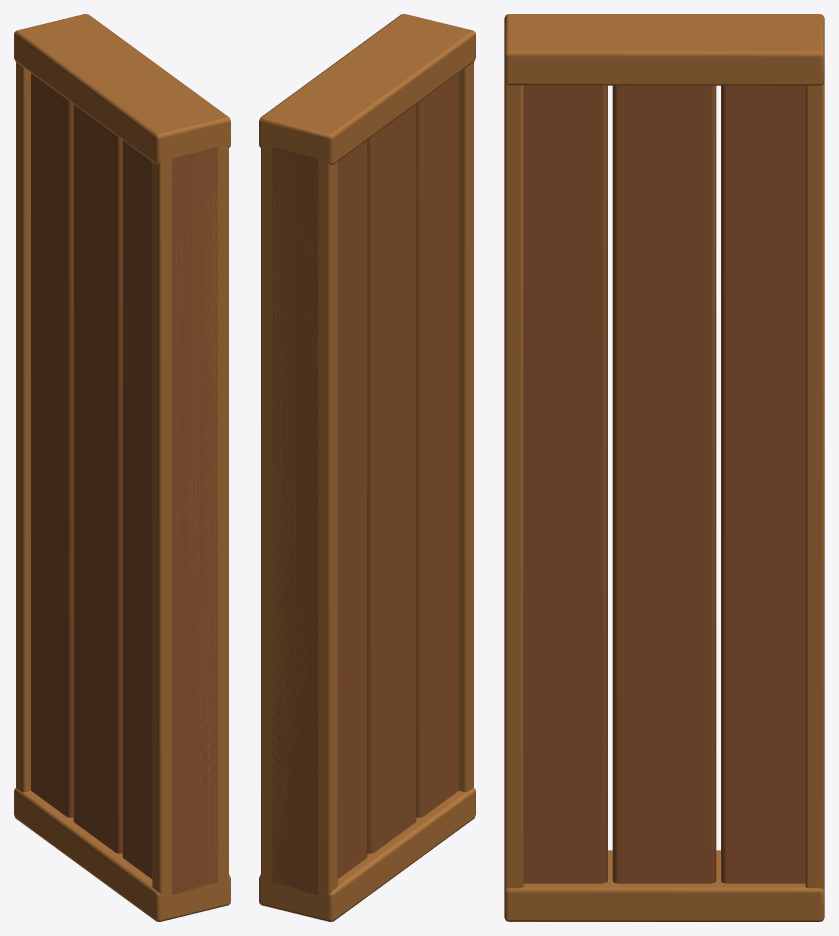
Rendered from K_BridgePlank.fbx.
3 renders of one model, left to right at view 1: azimuth 30°, elevation 25°; view 2: azimuth 150°, elevation 25°; view 3: azimuth 270°, elevation 25°, orthographic. The views are drawn at different scales.
Parts seen in each view (by area): view 1: K_BridgePlank; view 2: K_BridgePlank; view 3: K_BridgePlank.
Boxes of the visible parts, box(x1,y1,x2,y2) form: K_BridgePlank: box(14, 14, 230, 921); K_BridgePlank: box(259, 14, 475, 921); K_BridgePlank: box(504, 14, 824, 921).
Bounding box in the file's own units: 0.3 × 3 × 1.
